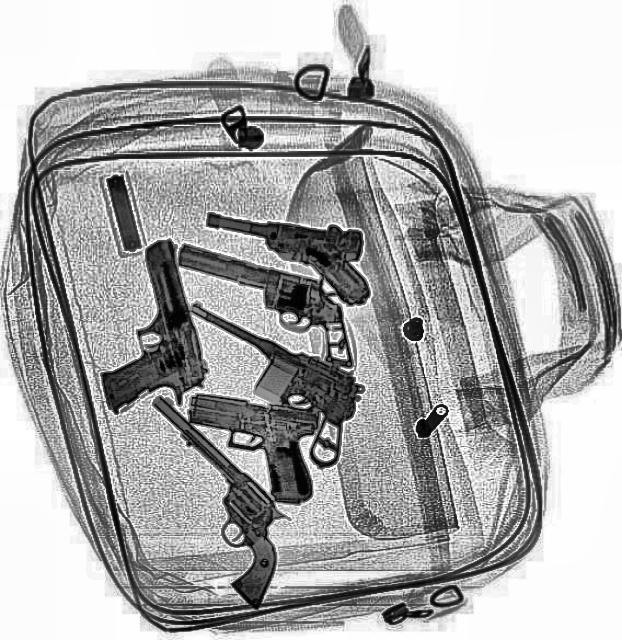Gun: (93, 388, 324, 610), (149, 288, 381, 470), (160, 242, 370, 366), (72, 234, 214, 416), (193, 203, 377, 305), (174, 388, 325, 506)
